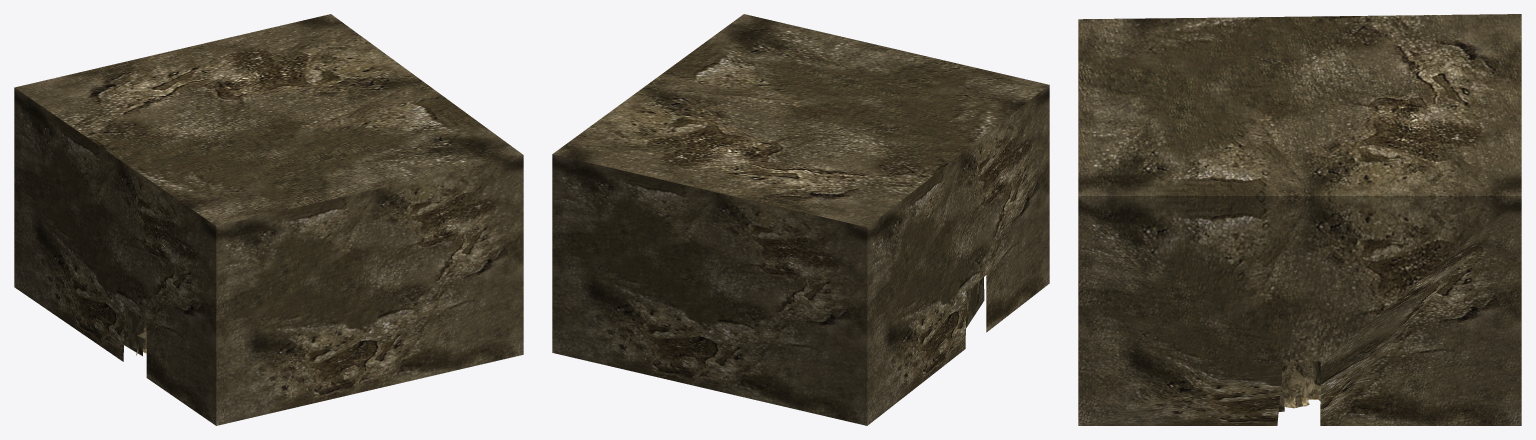
File: cave_d_zero.fbx
3 renders of one model, left to right at view 1: azimuth 30°, elevation 25°; view 2: azimuth 150°, elevation 25°; view 3: azimuth 270°, elevation 25°, orthographic. The views are drawn at different scales.
Visible parts, largest first — view 1: ceiling, BG_Wall4; view 2: ceiling, BG_Wall6; view 3: ceiling, Platform_26, wall_19.
Part boxes in pixels (left/top/right/bottom): ceiling: left=14, top=14, right=523, bottom=425; BG_Wall4: left=124, top=307, right=142, bottom=356; ceiling: left=552, top=14, right=1049, bottom=425; BG_Wall6: left=966, top=277, right=984, bottom=327; ceiling: left=1078, top=14, right=1521, bottom=425; Platform_26: left=1284, top=363, right=1309, bottom=408; wall_19: left=1280, top=358, right=1320, bottom=398.
Size of the model in its own units: 70675 by 42762 by 73385.
Materials: 4 (4 with a texture image).
